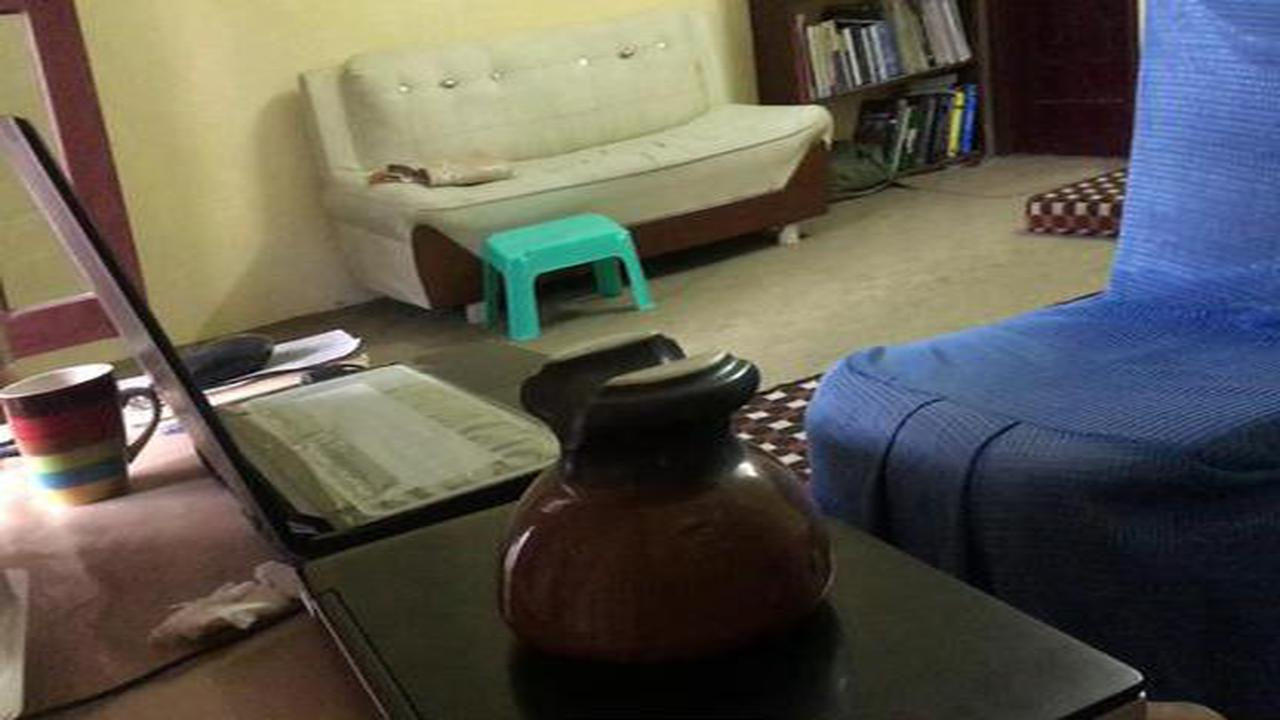insulator_pin: (484, 319, 865, 684)
